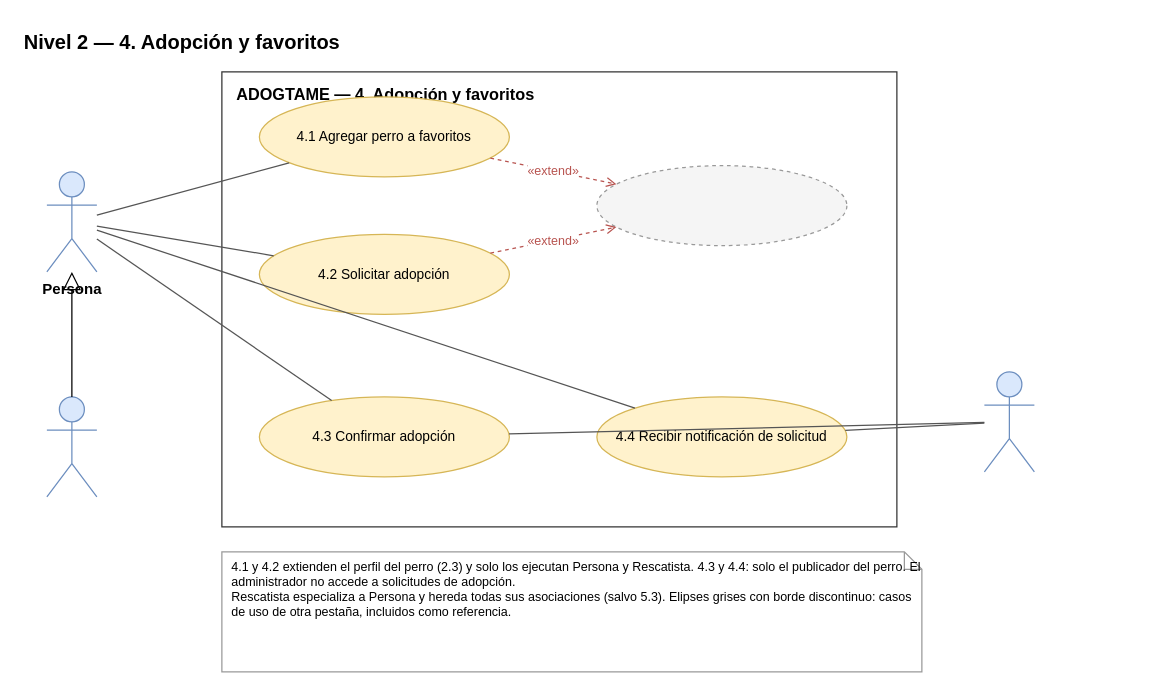
Image size: 1168x694. Some labels were removed from this diagram. The centre of each missing label's shape, as x and y in pixels:
"2.3 Ver información de perro" goes at point 721,205.
"Refugio" goes at point 1008,421.
"Rescatista" goes at point 71,446.
